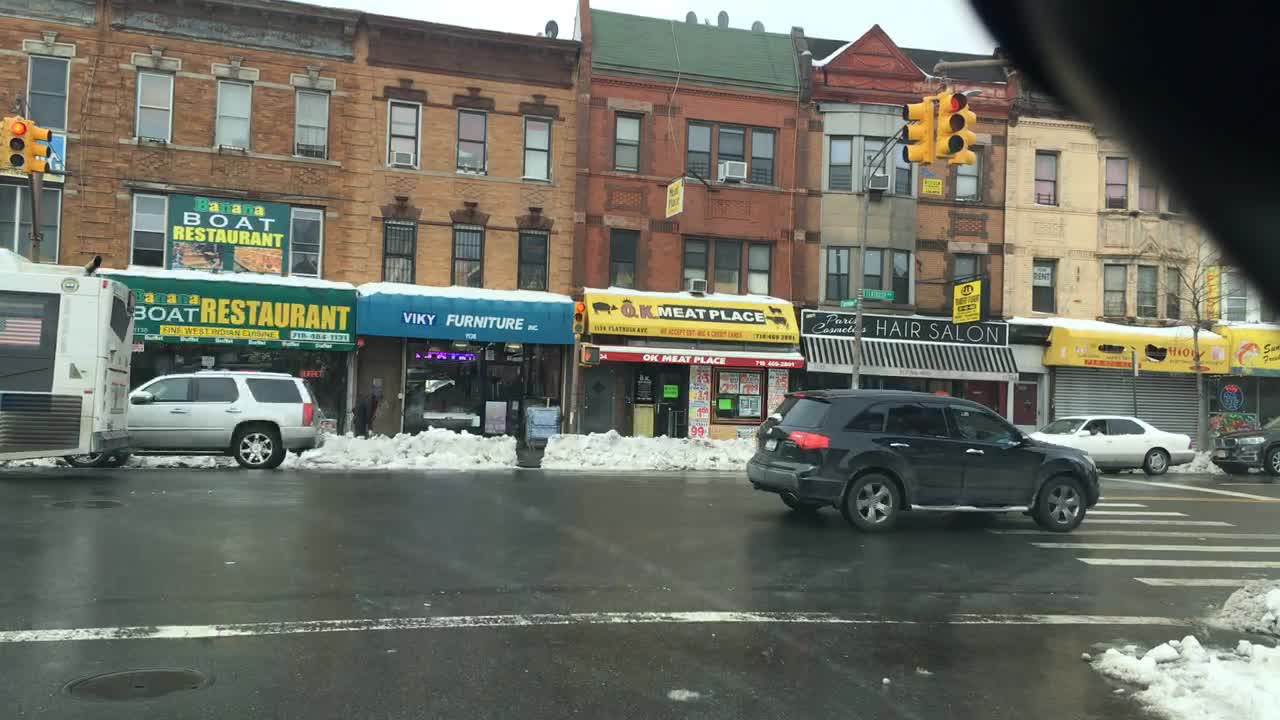car: (745, 387, 1098, 536), (125, 368, 321, 470), (1023, 408, 1194, 473)
person: (349, 390, 385, 438)
traffic light: (937, 88, 968, 157), (898, 89, 926, 164), (8, 119, 29, 169), (964, 104, 979, 173), (32, 124, 53, 172)
traffic sign: (860, 286, 893, 304), (836, 301, 856, 311)
truck: (1, 244, 137, 464), (1208, 413, 1278, 473)
